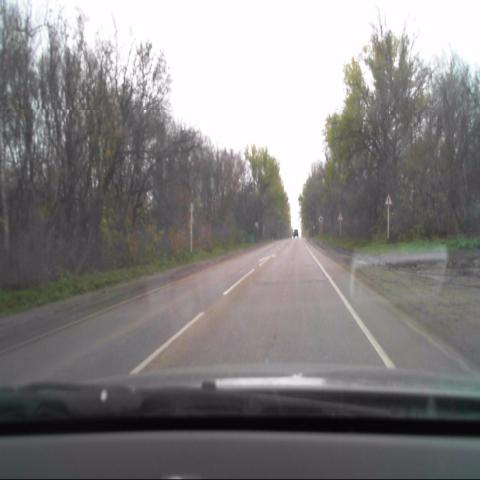2_3_3: (384, 192, 392, 205)
